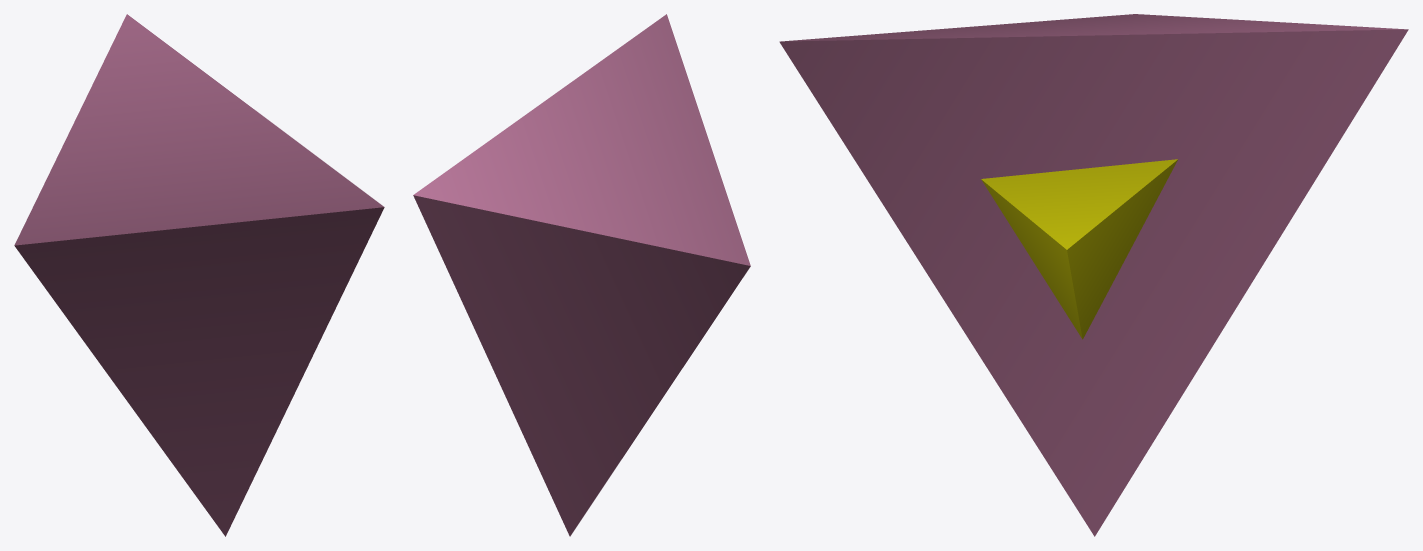
File: c_flower_triangle_ac.fbx
The picture shows the model from 3 angles, left to right: view 1: azimuth 30°, elevation 25°; view 2: azimuth 150°, elevation 25°; view 3: azimuth 270°, elevation 25°; orthographic projection. The views are drawn at different scales.
Parts seen in each view (by area): view 1: c_flower_triangle_ac; view 2: c_flower_triangle_ac; view 3: c_flower_triangle_ac.
Boxes of the visible parts, x1,y1,x2,y2 form: c_flower_triangle_ac: (14, 14, 384, 536); c_flower_triangle_ac: (413, 14, 750, 536); c_flower_triangle_ac: (779, 14, 1408, 536).
Bounding box in the file's own units: 0.1715 × 0.2604 × 0.2833.
